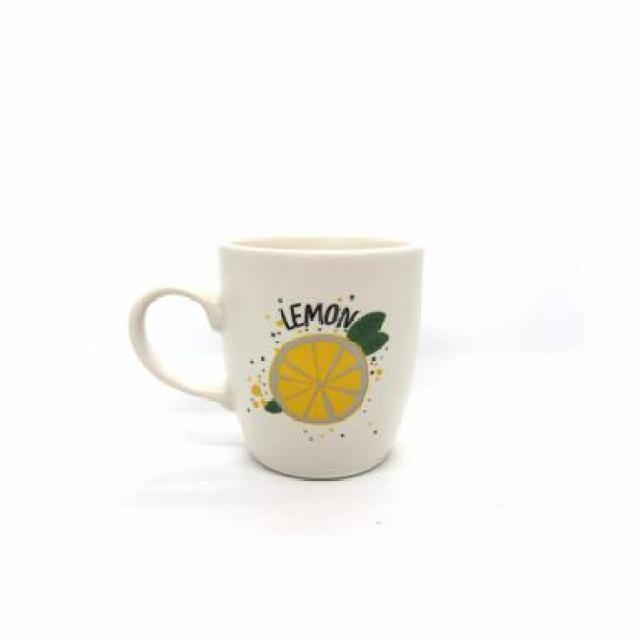taza: (130, 236, 428, 482)
